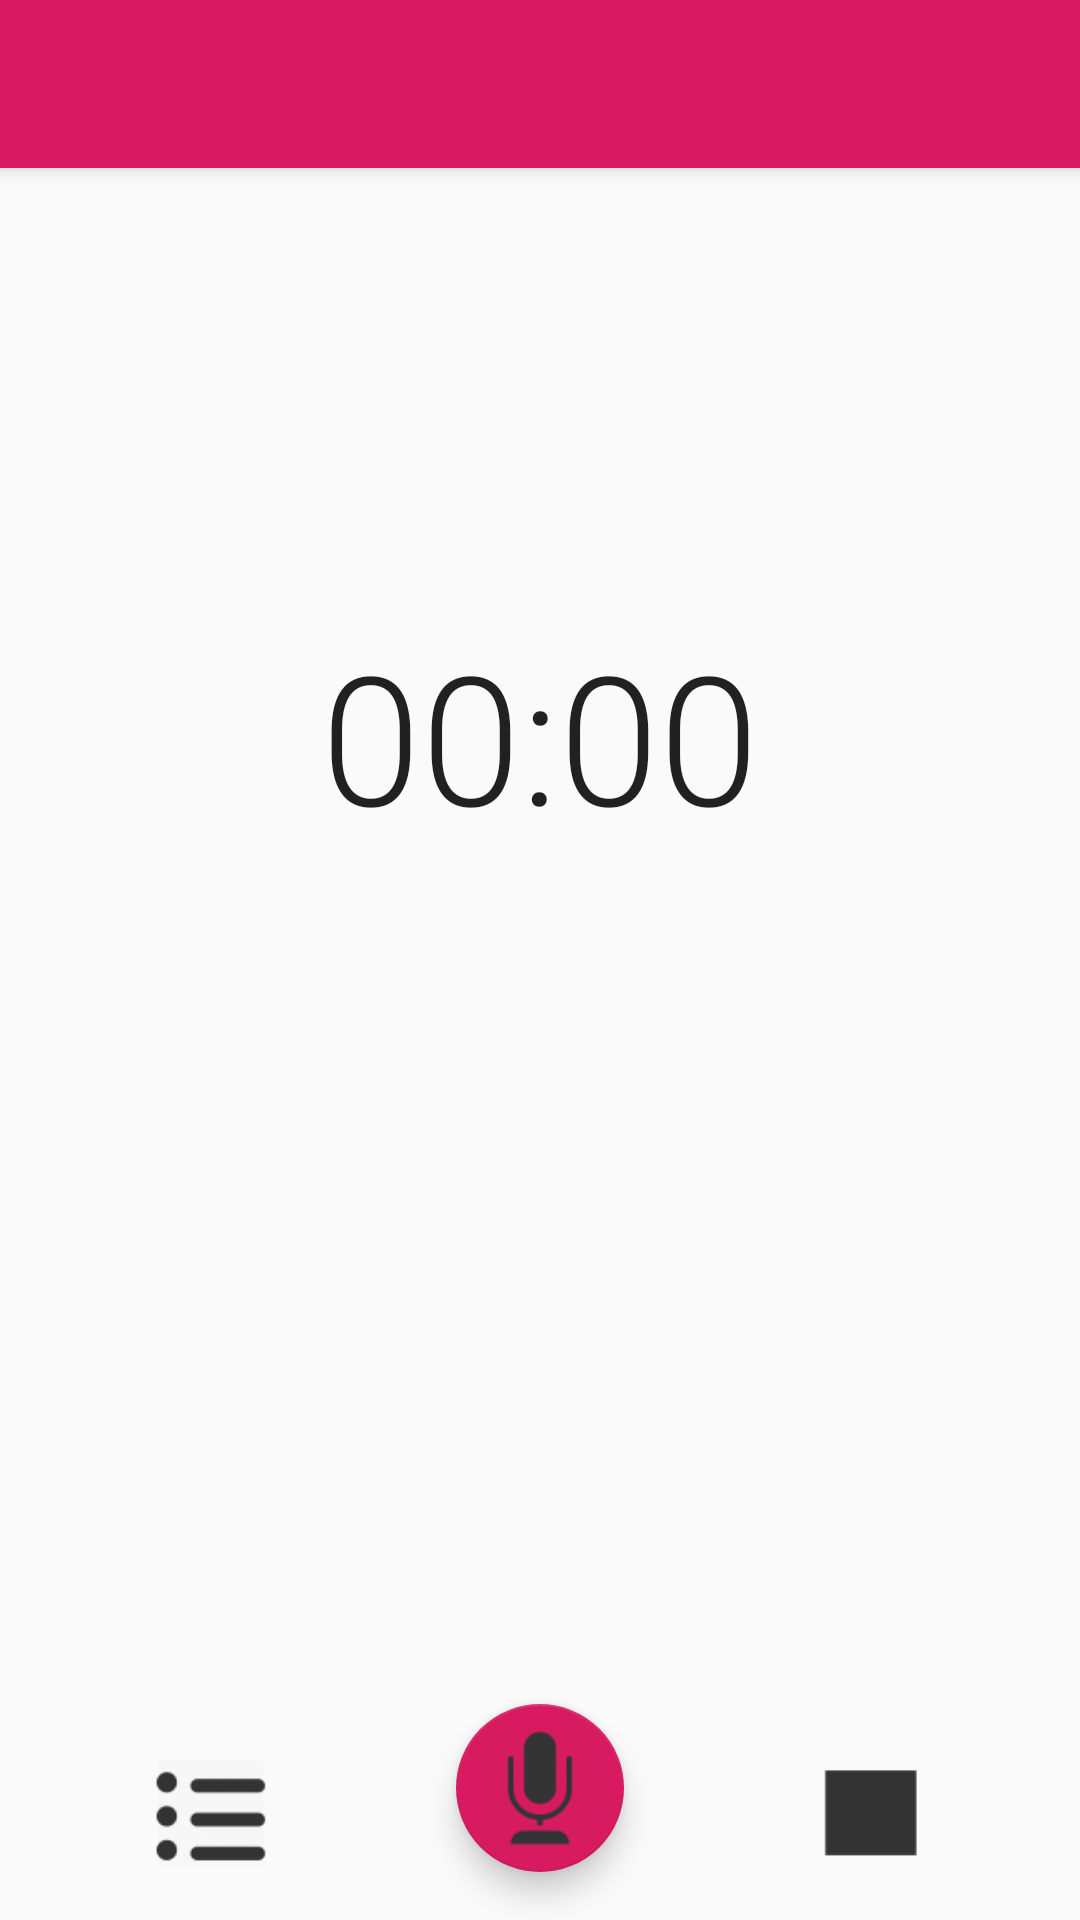

Screen size 1080 × 1920. Icon name, then its center in pixels as (x,y):
list: (211,1816)
mic: (540,1788)
stop: (870,1813)
